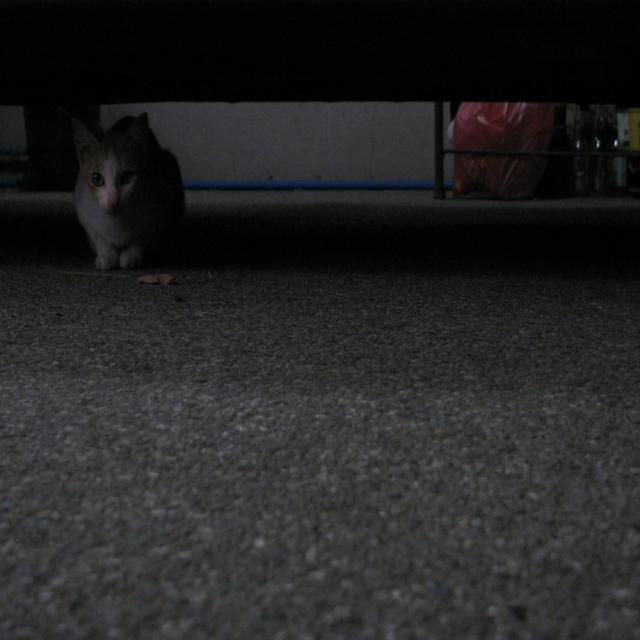Cat: (60, 103, 195, 268)
